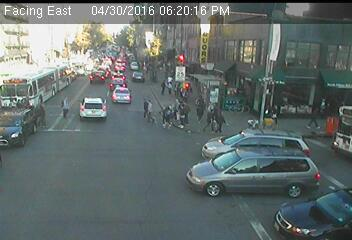neg: (3, 127, 33, 166), (204, 148, 228, 179), (150, 132, 173, 162), (279, 132, 299, 157), (302, 157, 320, 181), (268, 181, 286, 204)
pos: (55, 91, 76, 119), (136, 98, 157, 124), (306, 104, 326, 129), (142, 97, 161, 123), (210, 109, 229, 134), (201, 107, 219, 131), (158, 78, 171, 95), (165, 79, 176, 93)
